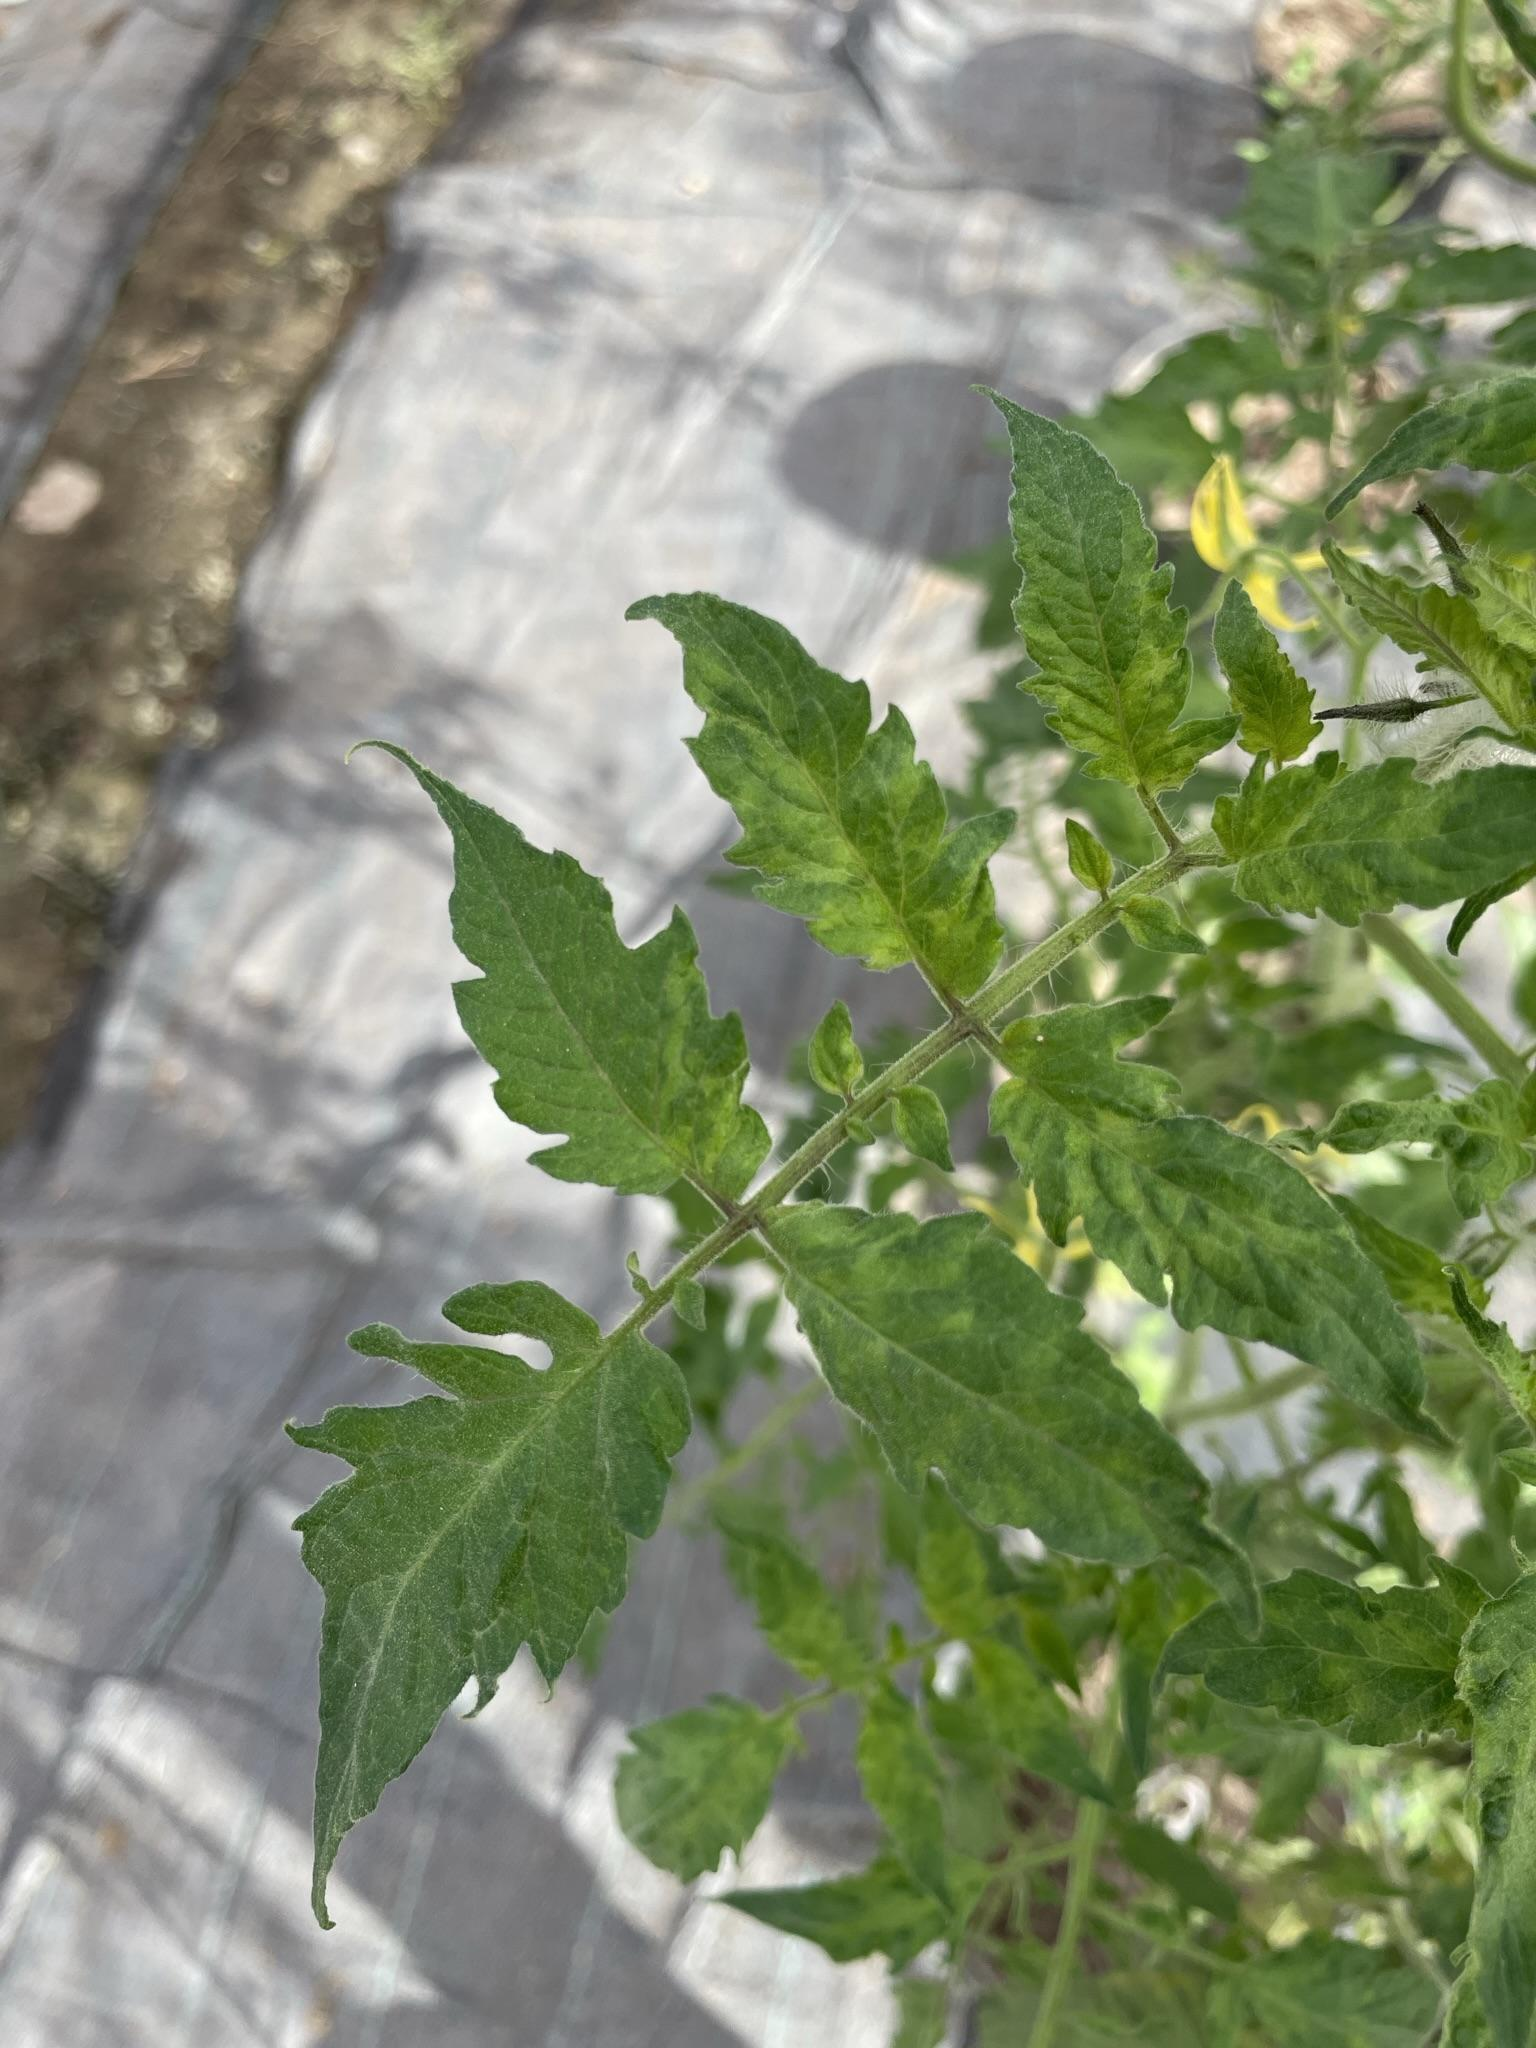Hoja rugoso: (292, 1284, 687, 1909), (765, 1205, 1252, 1598), (992, 997, 1425, 1429), (384, 743, 771, 1205), (636, 592, 1012, 1005), (995, 397, 1236, 830), (1212, 751, 1533, 924)
Pedunculo rugoso: (671, 832, 1225, 1279)
